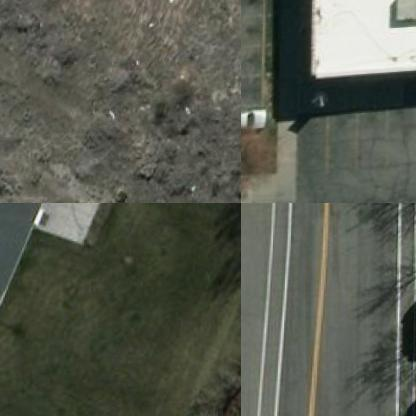car: (241, 107, 267, 134)
